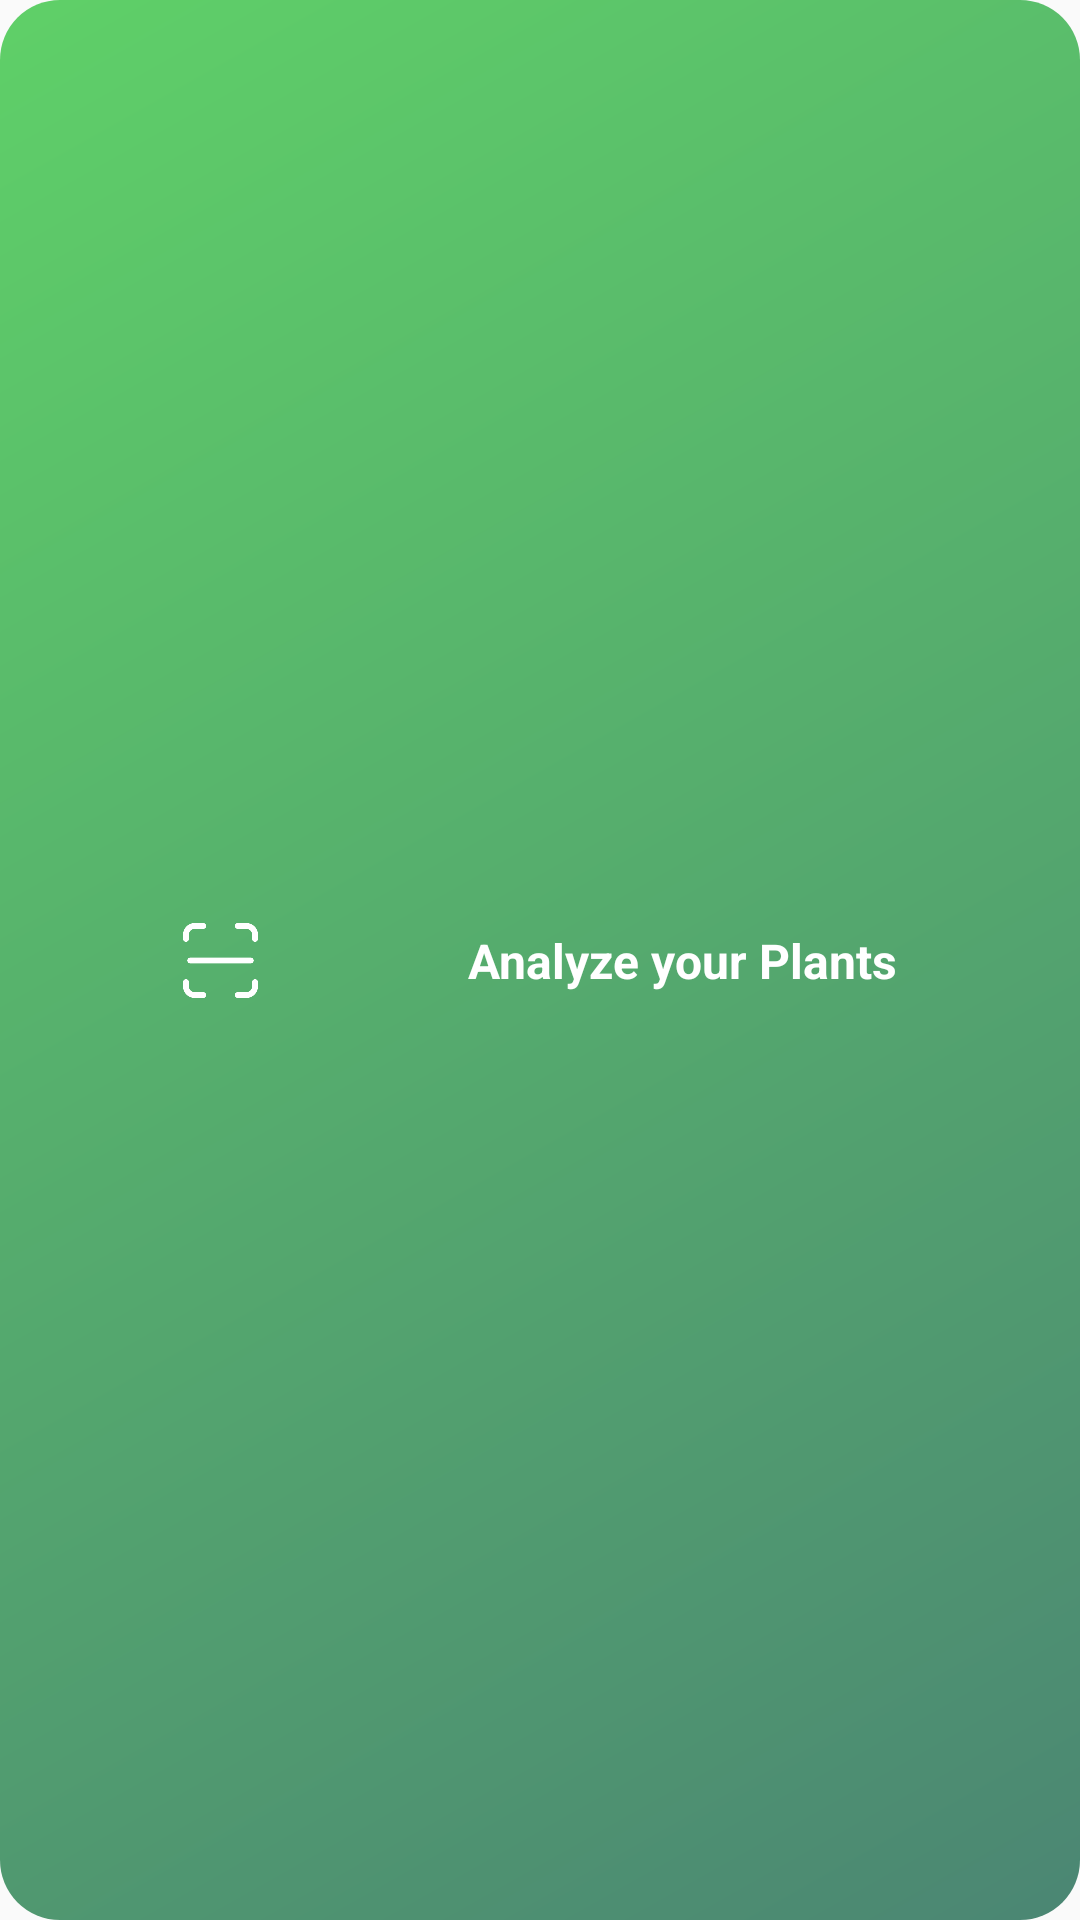

Screen size 1080 x 1920. Icon name, then its box in pixels as (x1=x1, y1=y1, x2=x2, y2=y2):
scan: (x1=183, y1=923, x2=258, y2=998)
